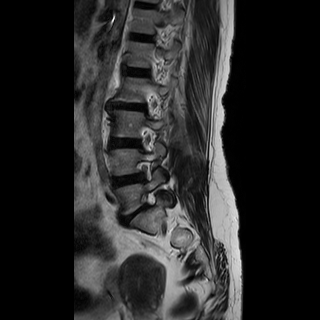LFS0: (133, 124, 161, 159), (135, 186, 161, 217), (132, 156, 158, 186)
